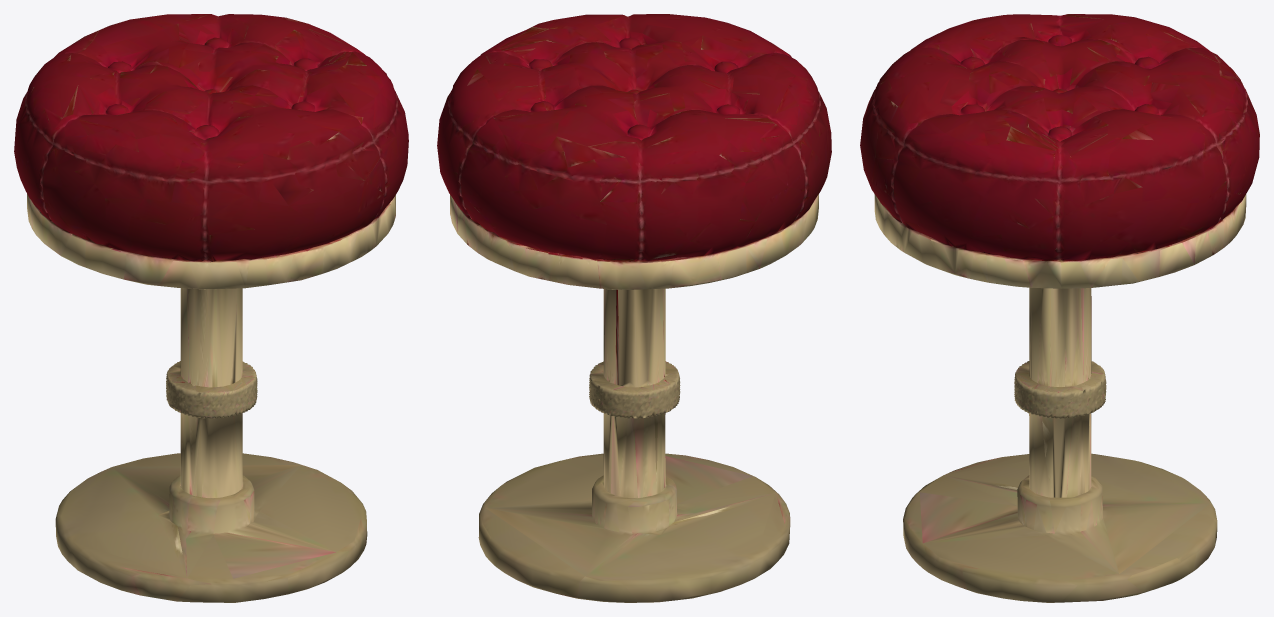
File: stool.glb
The picture shows the model from 3 angles, left to right: view 1: azimuth 30°, elevation 25°; view 2: azimuth 150°, elevation 25°; view 3: azimuth 270°, elevation 25°; orthographic projection.
Parts seen in each view (by area): view 1: Mesh_0; view 2: Mesh_0; view 3: Mesh_0.
Boxes of the visible parts, bbox=[...] form: Mesh_0: bbox=[14, 14, 408, 602]; Mesh_0: bbox=[437, 14, 831, 602]; Mesh_0: bbox=[860, 14, 1259, 602].
Bounding box in the file's own units: 0.77 × 1 × 0.774.
1 material, 1 textured.
